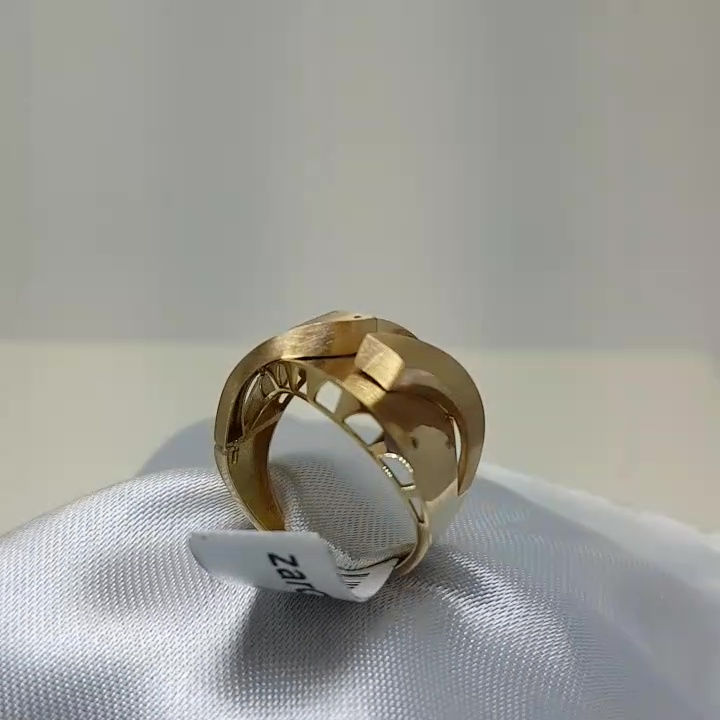Ring 4: (202, 303, 497, 630)
